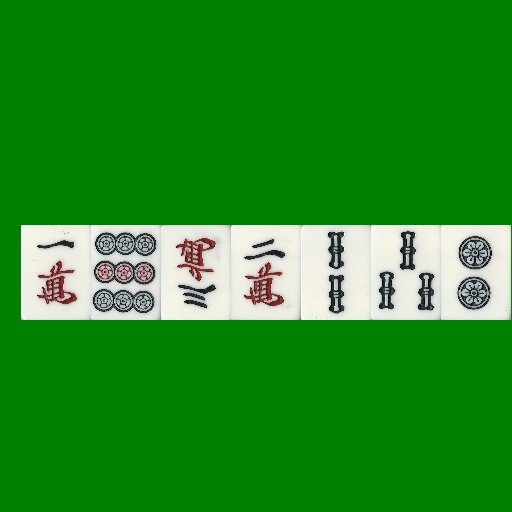1m: (21, 225, 91, 320)
2m: (231, 225, 301, 320)
2p: (441, 225, 511, 320)
2s: (301, 225, 371, 320)
3m: (161, 225, 231, 320)
3s: (371, 225, 441, 320)
9p: (91, 225, 161, 320)
